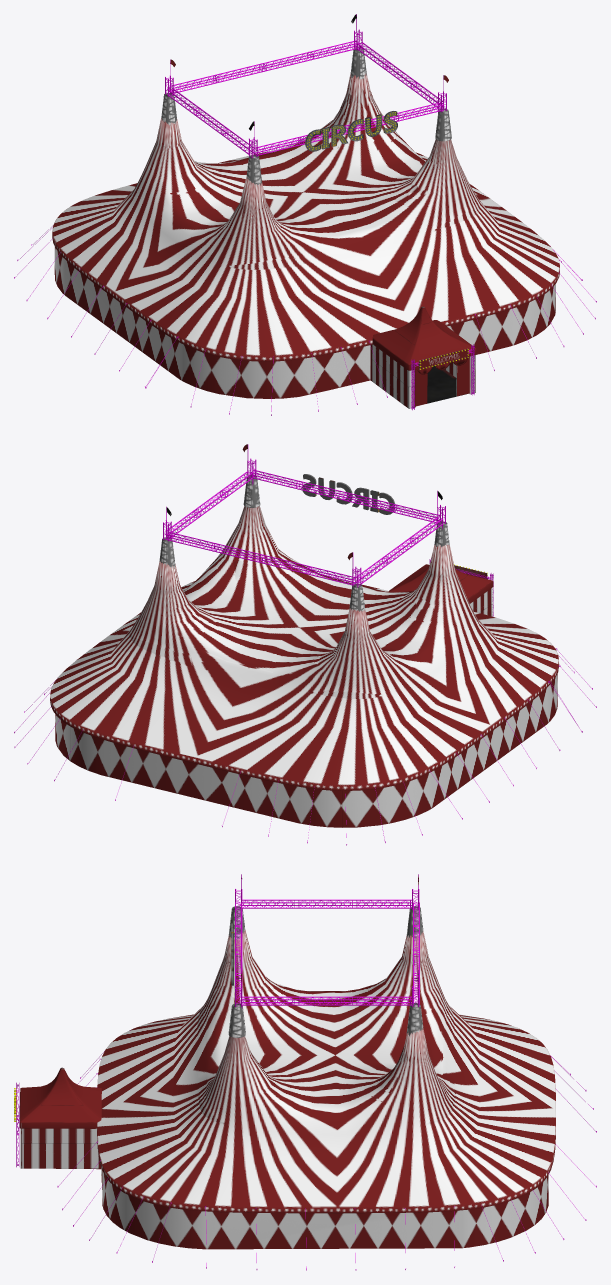
The model's file is Circus_LOD1.fbx.
3 renders of one model, top to bottom at view 1: azimuth 30°, elevation 25°; view 2: azimuth 150°, elevation 25°; view 3: azimuth 270°, elevation 25°, orthographic. The views are drawn at different scales.
Parts seen in each view (by area): view 1: Circus, Circus_Metal; view 2: Circus, Circus_Metal; view 3: Circus, Circus_Metal.
Part boxes in pixels (x1=…): Circus: x1=52, y1=14, x2=559, y2=408; Circus_Metal: x1=14, y1=14, x2=596, y2=415; Circus: x1=50, y1=444, x2=559, y2=827; Circus_Metal: x1=14, y1=444, x2=596, y2=845; Circus: x1=19, y1=876, x2=555, y2=1249; Circus_Metal: x1=16, y1=874, x2=596, y2=1270.
Size of the model in its own units: 5306 by 2557 by 5727.
Materials: 3 (1 with a texture image).
